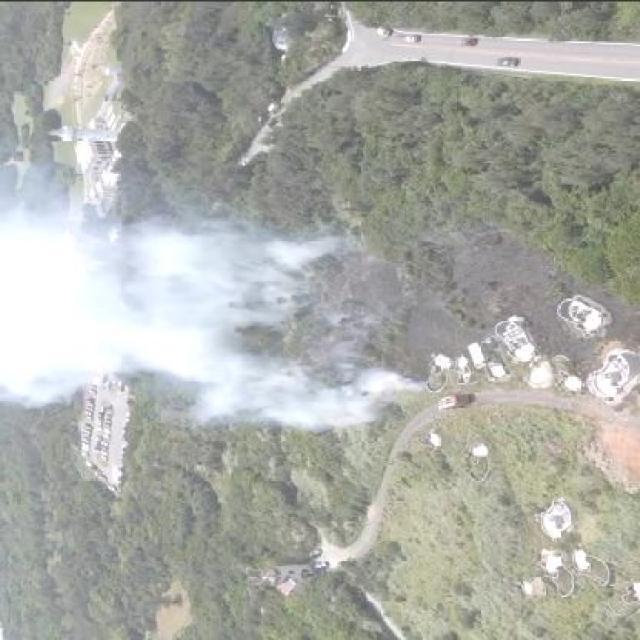Smoke: (0, 147, 405, 437)
